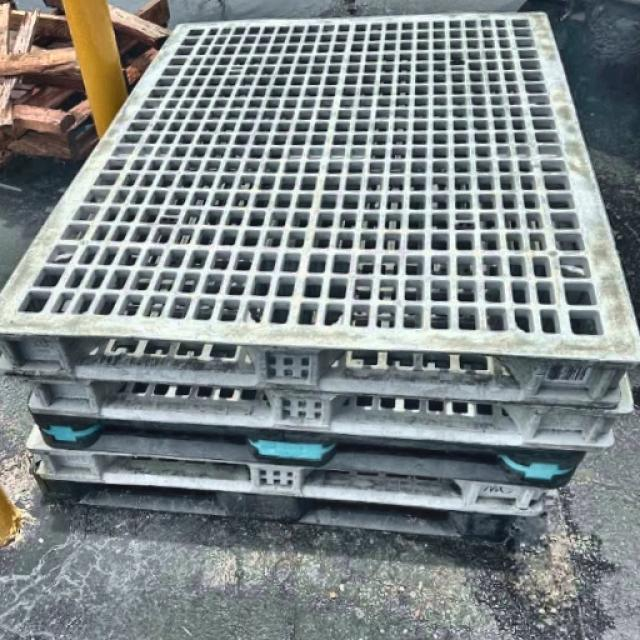non-igps: (0, 1, 640, 417), (9, 358, 625, 464), (16, 412, 570, 528), (24, 403, 594, 494), (24, 458, 528, 556)
